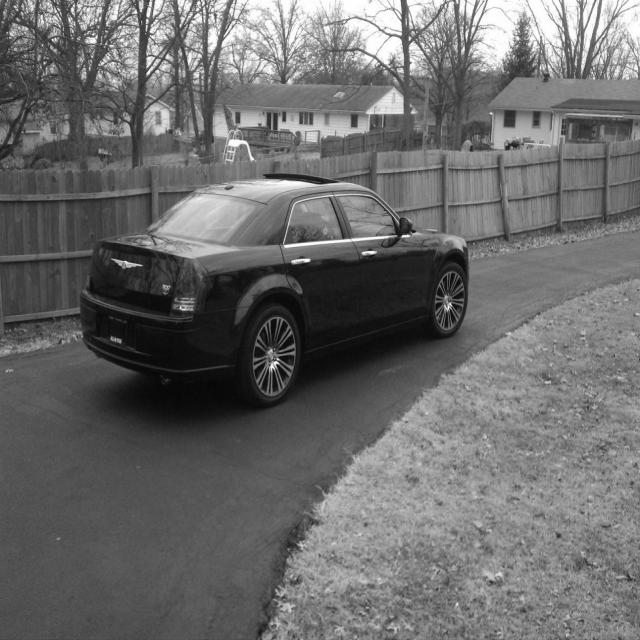car: (79, 171, 470, 408)
